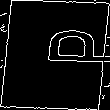P_W: (5, 35, 105, 75)
